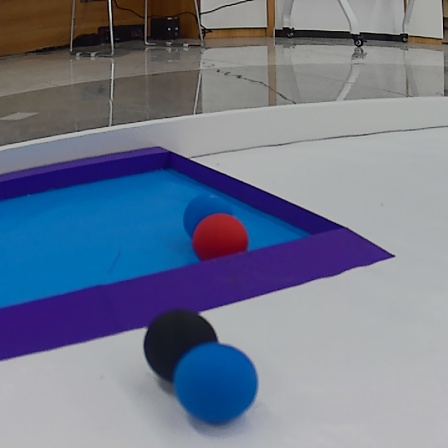black: (140, 312, 224, 386)
blue: (174, 346, 261, 426), (184, 196, 236, 233)
blue_aim: (0, 146, 407, 377)
red: (189, 212, 248, 263)
